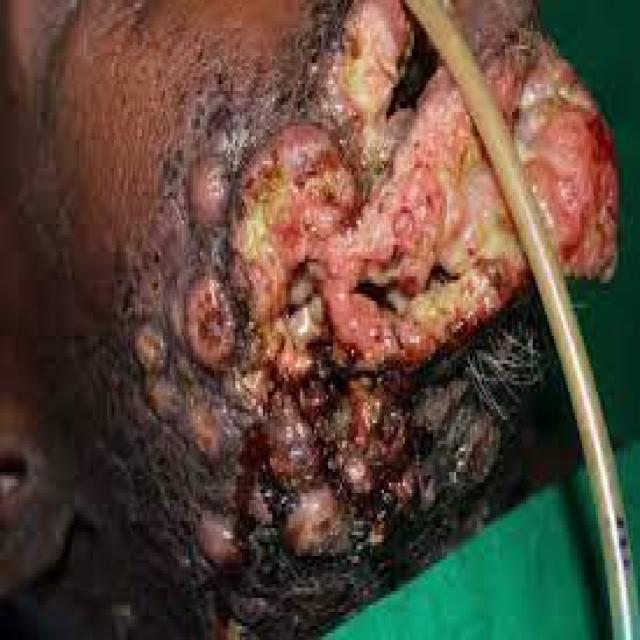Cancer: (136, 133, 418, 632), (442, 75, 623, 552)
